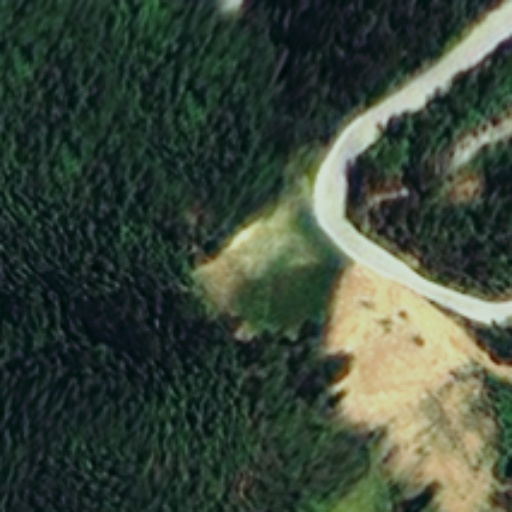landslide: (332, 270, 499, 512), (194, 185, 306, 316)
